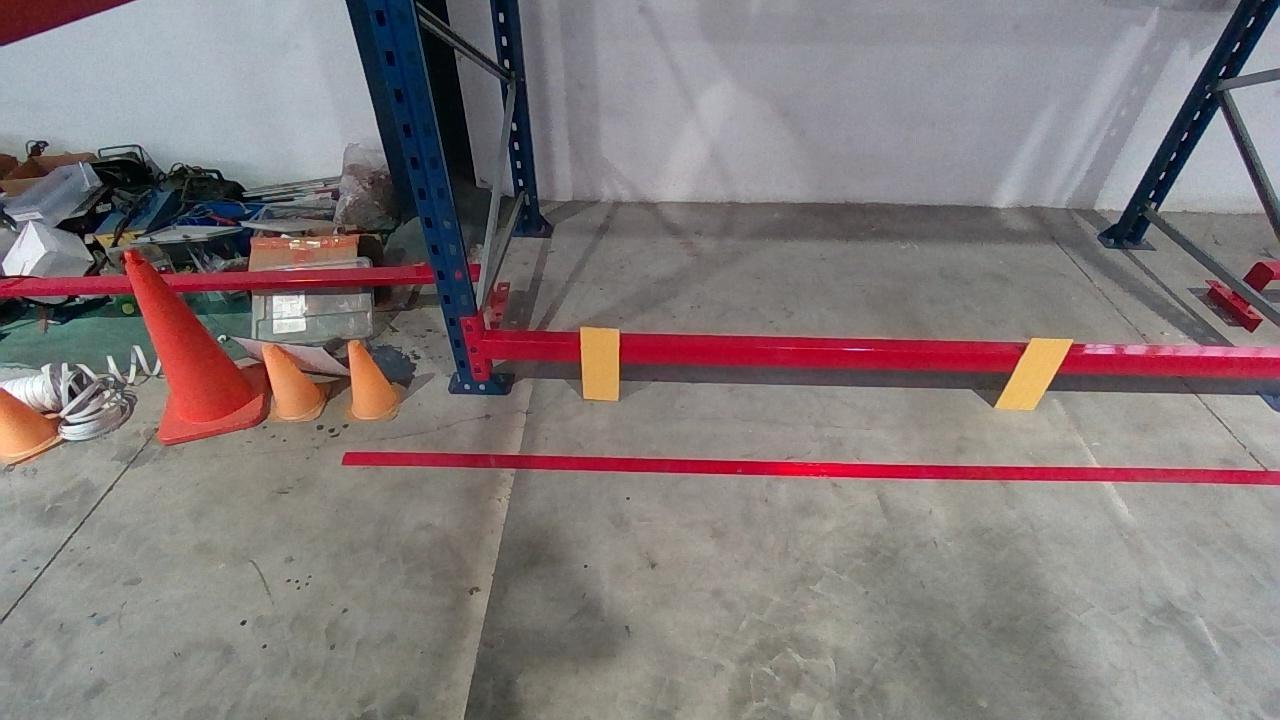h_rack: (479, 342, 1277, 377)
orange_strip: (991, 337, 1076, 409), (580, 327, 620, 399)
red_line: (339, 452, 1276, 483)
